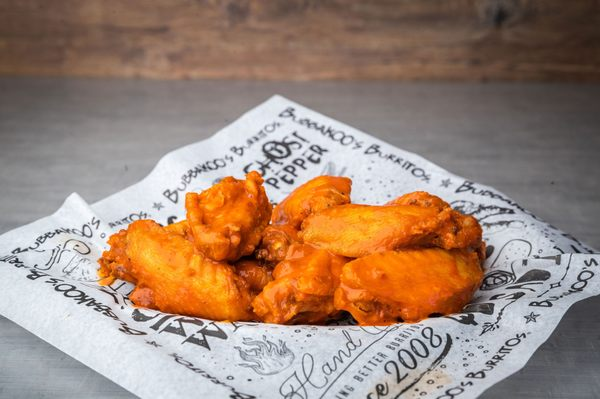curry: (2, 3, 599, 397)
